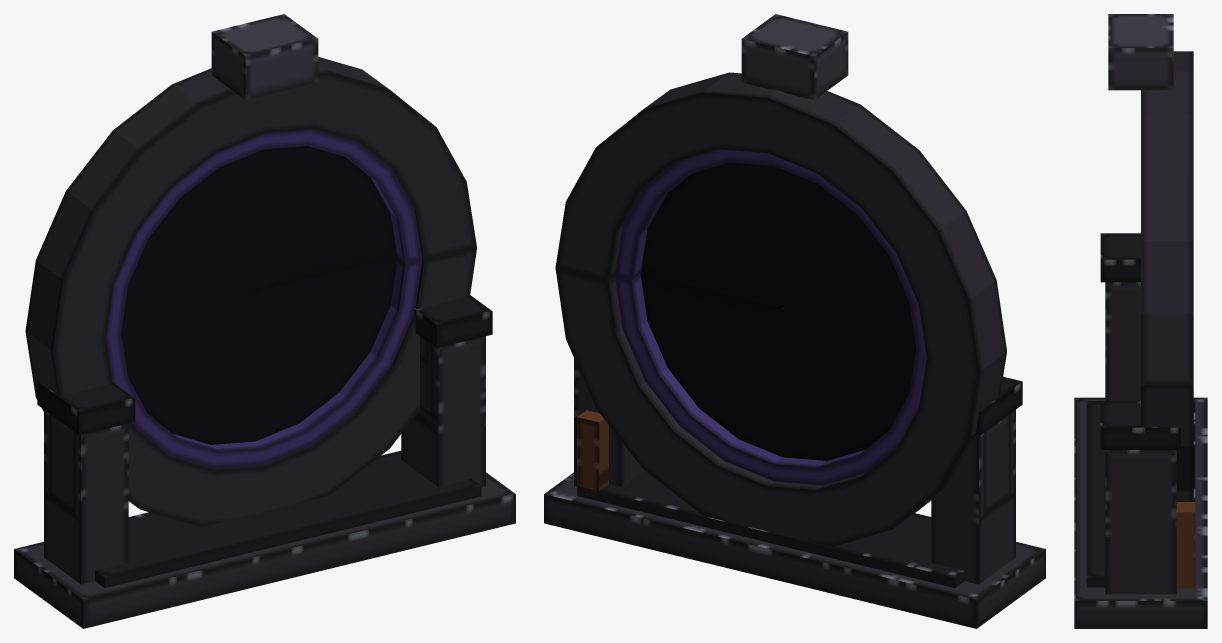
Rendered from PortalArch.obj.
3 renders of one model, left to right at view 1: azimuth 30°, elevation 25°; view 2: azimuth 150°, elevation 25°; view 3: azimuth 270°, elevation 25°, orthographic. The views are drawn at different scales.
Parts seen in each view (by area): view 1: PortalArch; view 2: PortalArch; view 3: PortalArch.
Part boxes in pixels (box(x1,y1,x2,y2)): PortalArch: box(14, 14, 515, 628); PortalArch: box(544, 14, 1045, 628); PortalArch: box(1074, 14, 1207, 628).
Bounding box in the file's own units: 3.1 × 3.53 × 0.86.
1 material, 1 textured.
